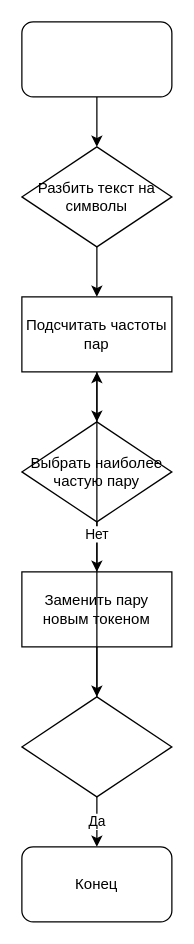
The diagram is 194 pixels wide and 944 high, and some of its shapes have lost their labels. The shapes that lost their labels are listed below. From the top down, each one's centre as x and y in pixels, then its label:
(96,59): Начало
(96,746): Достигнут лимит словаря?
